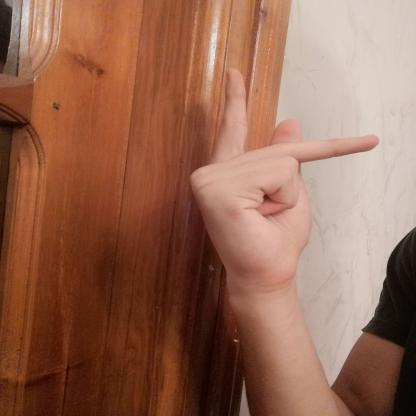DHAA: (176, 58, 390, 304)
